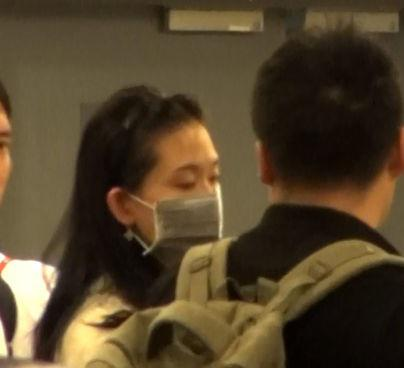OK: (110, 146, 224, 268)
